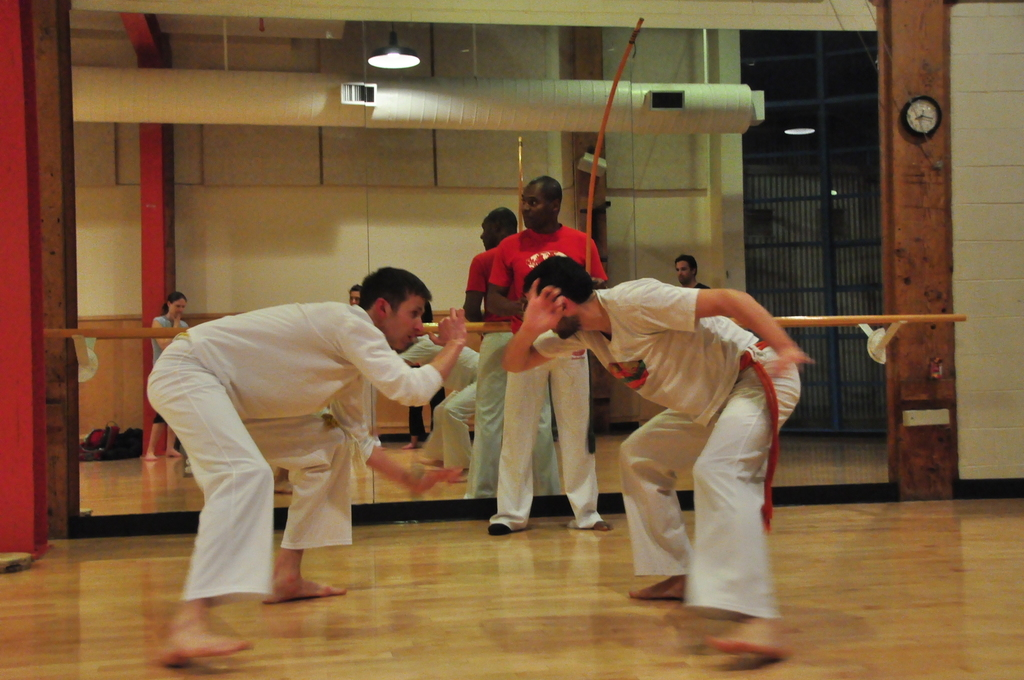Person: (145, 175, 815, 664)
